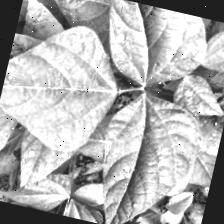Bean Rust: (0, 14, 130, 158), (88, 85, 209, 224), (85, 0, 213, 98), (11, 130, 79, 200)
